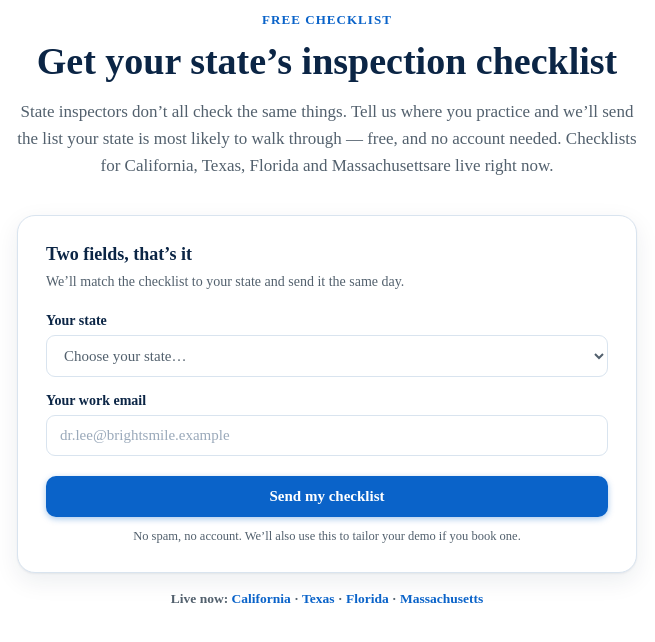
Test: ChecklistCTA › rejects a malformed email
Select "Colorado" in the dropdown labelled "Your state" at (327, 356), box [46,335,608,377]
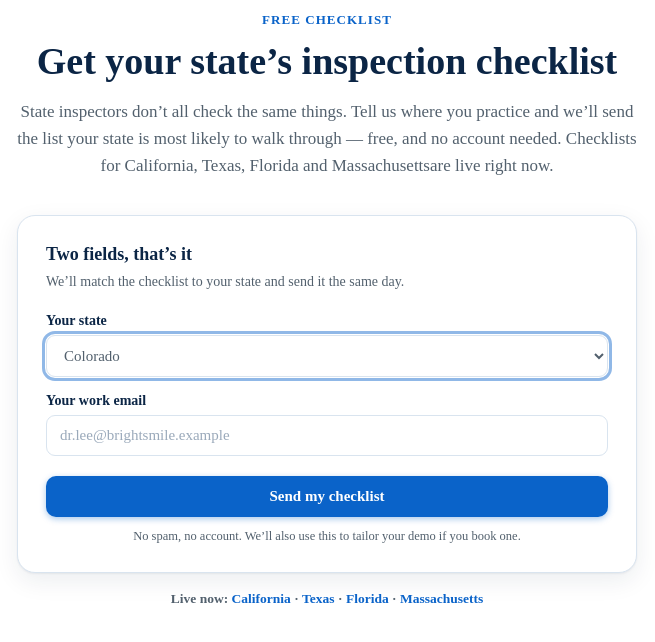
Type "not-an-email" into the field labelled "Your work email" at (327, 435), box [46,415,608,456]
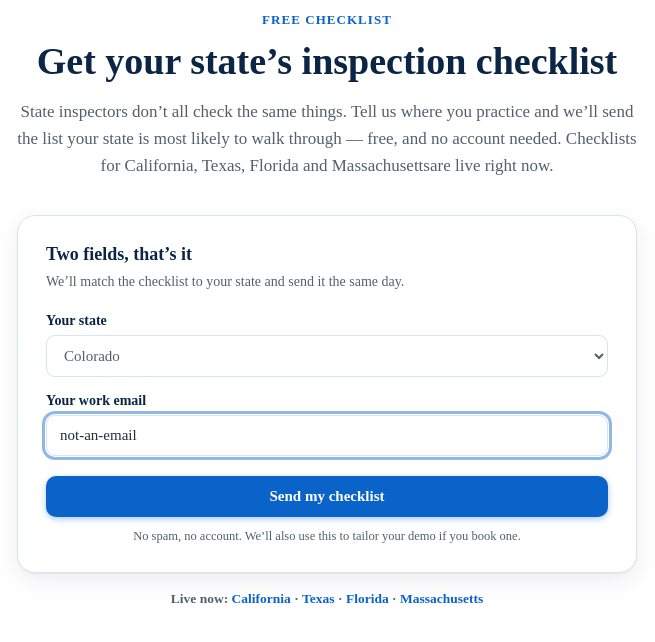
Click the button "Send my checklist" at (327, 496), box [46,476,608,517]
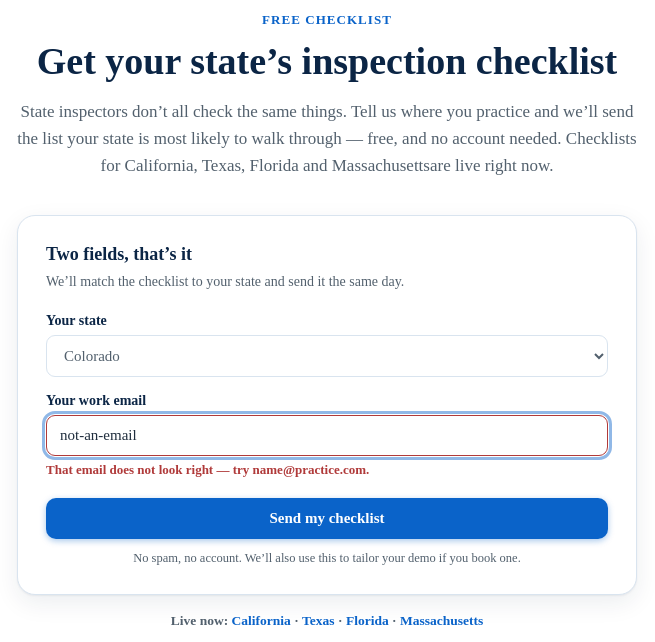
Now the message "That email does not look right — try name@practice.com." is shown, box [46,462,369,477]
